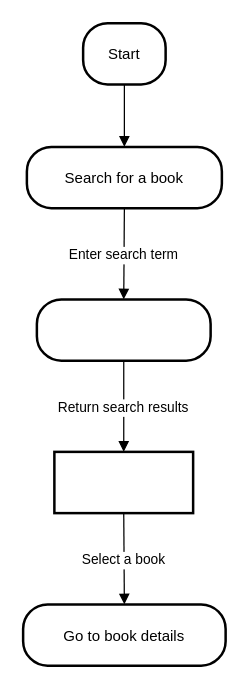
Image size: 248x688. Some labels were removed from this diagram. The centre of each missing label's shape, as x and y in pixels:
"Perform search" belongs at [123,329].
"Results" belongs at [123,482].
